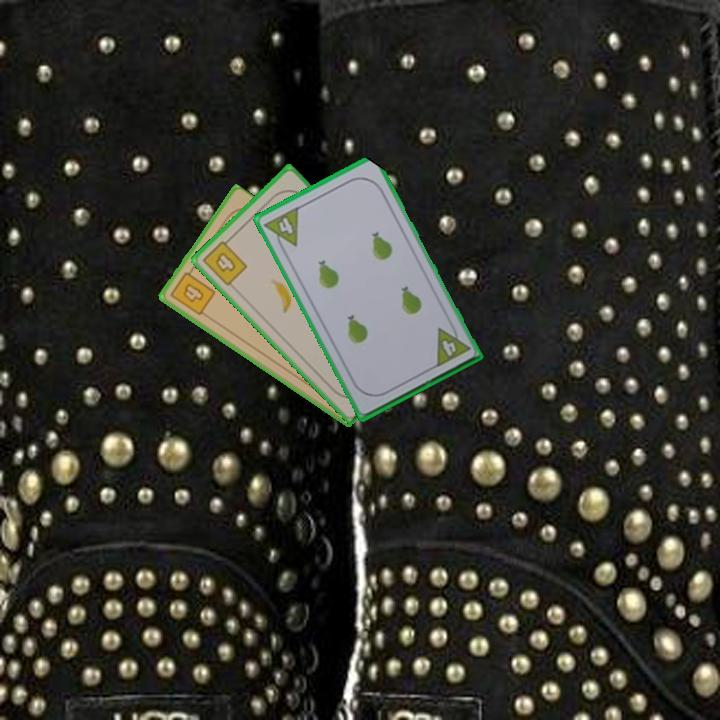4b: (199, 233, 250, 289), (166, 264, 218, 318)
4p: (260, 203, 302, 255), (432, 319, 473, 370)
